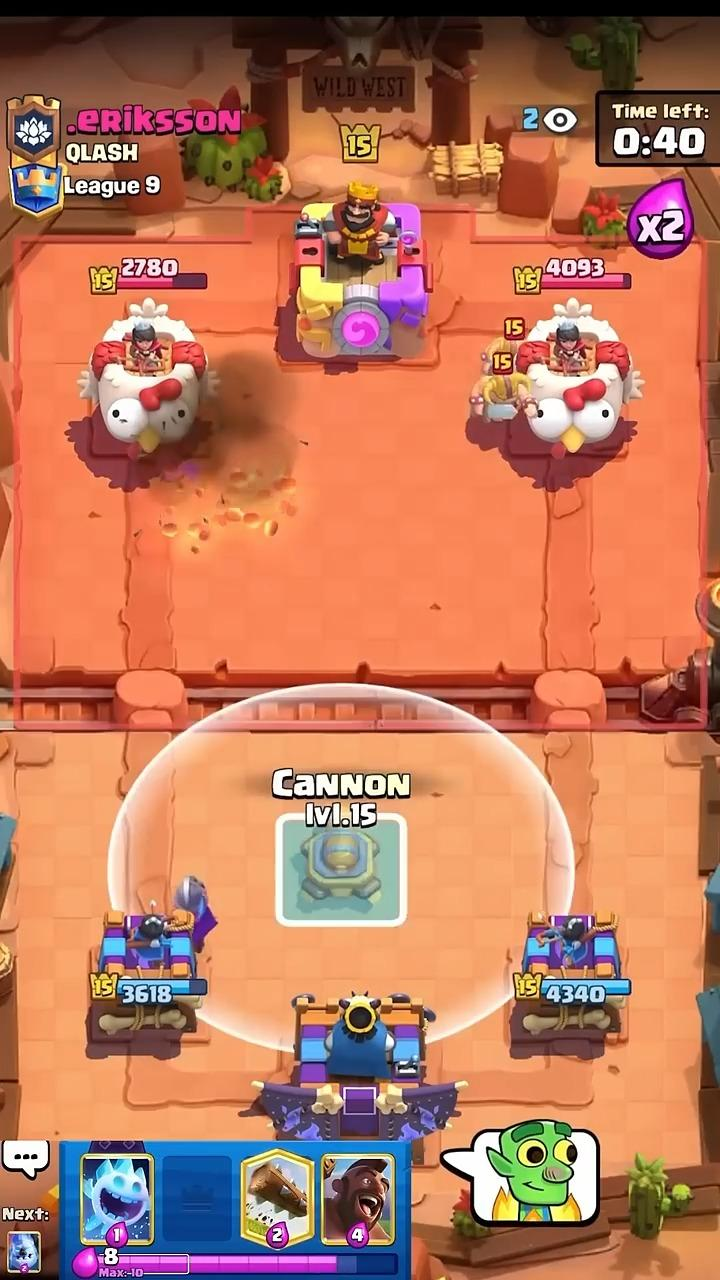elite barbarians: (473, 339, 529, 421)
musketeer: (174, 876, 217, 951)
